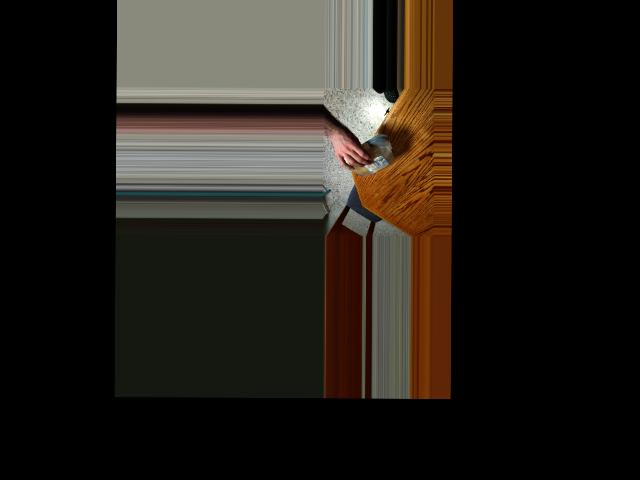cheese: (350, 145, 390, 174)
